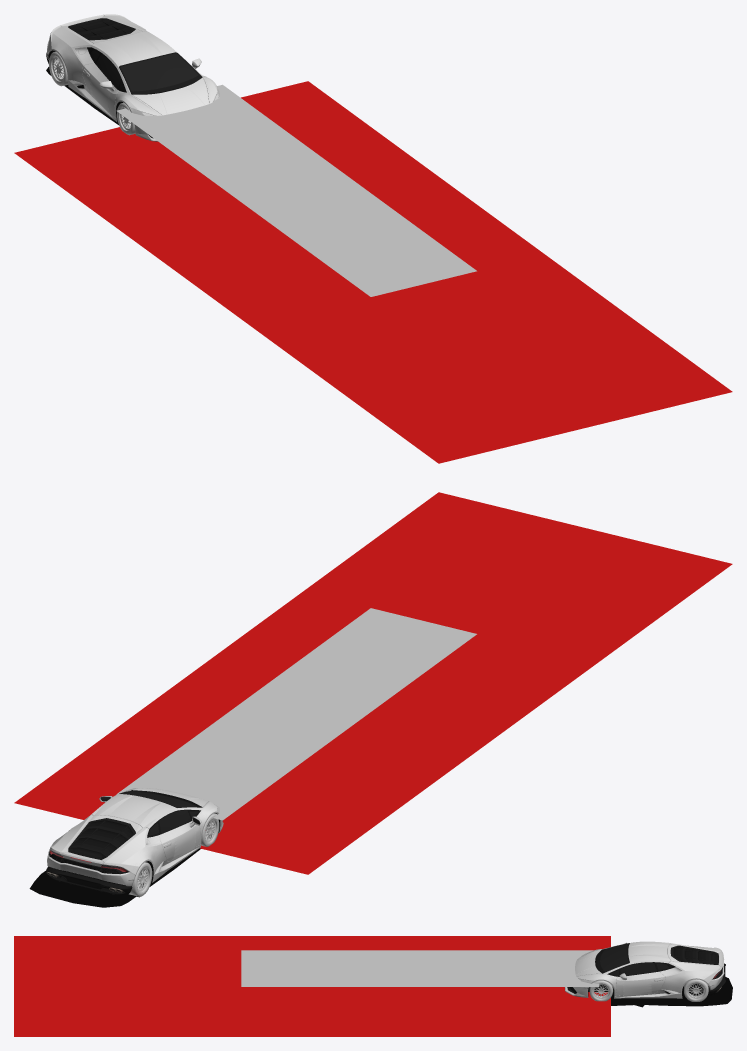
File: car33.fbx
3 views of the same model, one above another, from view 1: azimuth 30°, elevation 25°; view 2: azimuth 150°, elevation 25°; view 3: azimuth 270°, elevation 25° (orthographic). The views are drawn at different scales.
Parts seen in each view (by area): view 1: light_ground, far_lights, huracan; view 2: light_ground, far_lights, huracan, shadow_car; view 3: light_ground, far_lights, huracan, shadow_car, wheel_RL, decalSide, wheel_FL.
Part boxes in pixels (x1,y1,x2,y2): light_ground: [14, 81, 732, 463]; far_lights: [116, 84, 476, 296]; huracan: [46, 14, 219, 141]; light_ground: [14, 492, 732, 874]; far_lights: [116, 608, 476, 820]; huracan: [46, 788, 223, 894]; shadow_car: [29, 848, 200, 907]; light_ground: [14, 936, 610, 1036]; far_lights: [241, 950, 599, 986]; huracan: [564, 941, 725, 998]; shadow_car: [611, 977, 732, 1007]; wheel_RL: [684, 979, 708, 1001]; decalSide: [623, 980, 651, 995]; wheel_FL: [589, 980, 612, 1001].
Bounding box in the file's own units: 45.83 × 8.05 × 138.
